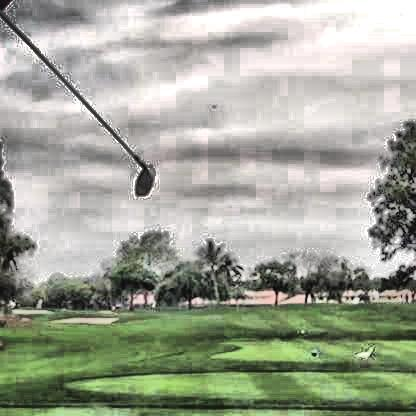golfball: (206, 99, 216, 107)
